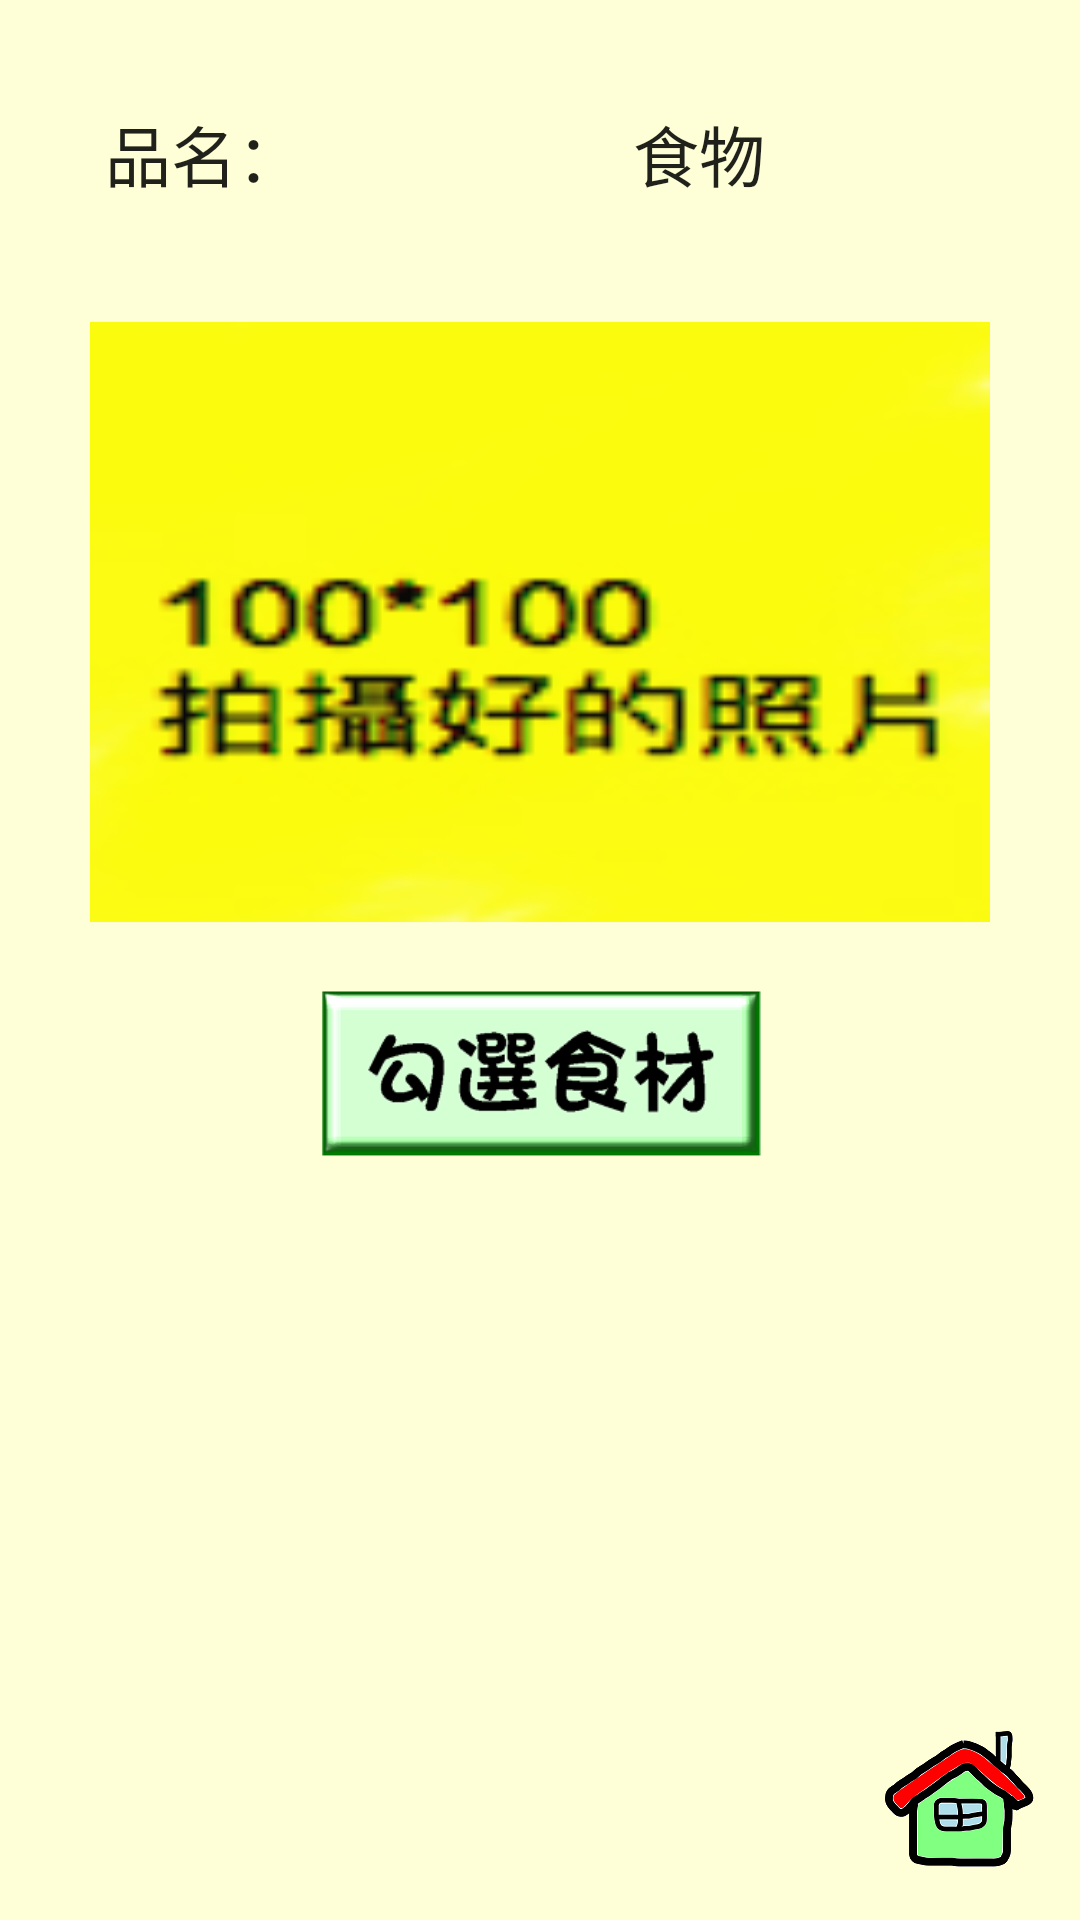

Icons on this 1080 × 1920 Android screen, each with its box as [left=x1, top=y1, right=x2, bottom=y2]:
home: [left=885, top=1731, right=1034, bottom=1867]
